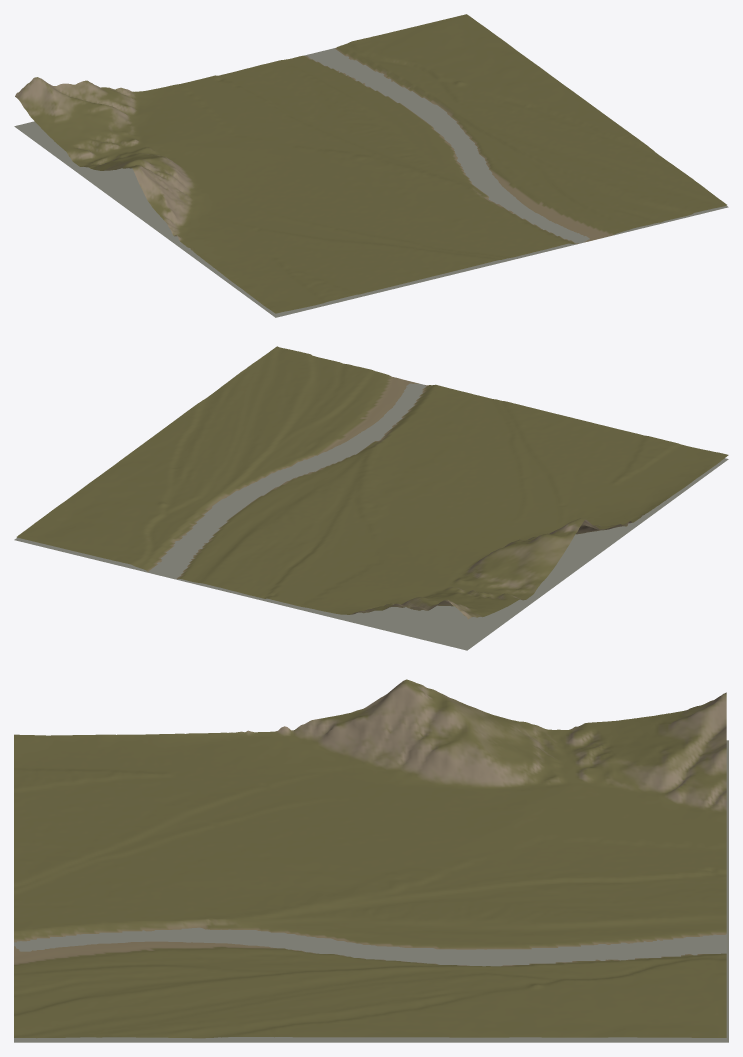
Rendered from elkhorn_terrain.glb.
3 renders of one model, top to bottom at view 1: azimuth 30°, elevation 25°; view 2: azimuth 150°, elevation 25°; view 3: azimuth 270°, elevation 25°, orthographic. The views are drawn at different scales.
Parts seen in each view (by area): view 1: terrain, river; view 2: terrain, river; view 3: terrain, river.
Boxes of the visible parts, x1,y1,x2,y2 form: terrain: (15, 14, 726, 313); river: (14, 48, 728, 317); terrain: (16, 346, 728, 619); river: (14, 383, 728, 650); terrain: (14, 679, 726, 1038); river: (14, 740, 728, 1042).
Bounding box in the file's own units: 792 × 74.75 × 792.
